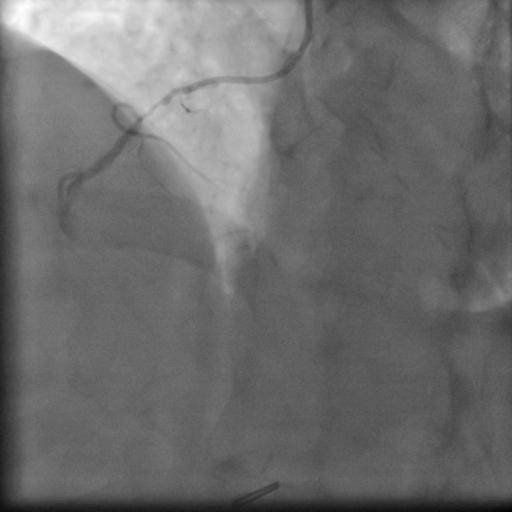Stenosis: (134, 87, 176, 123)
